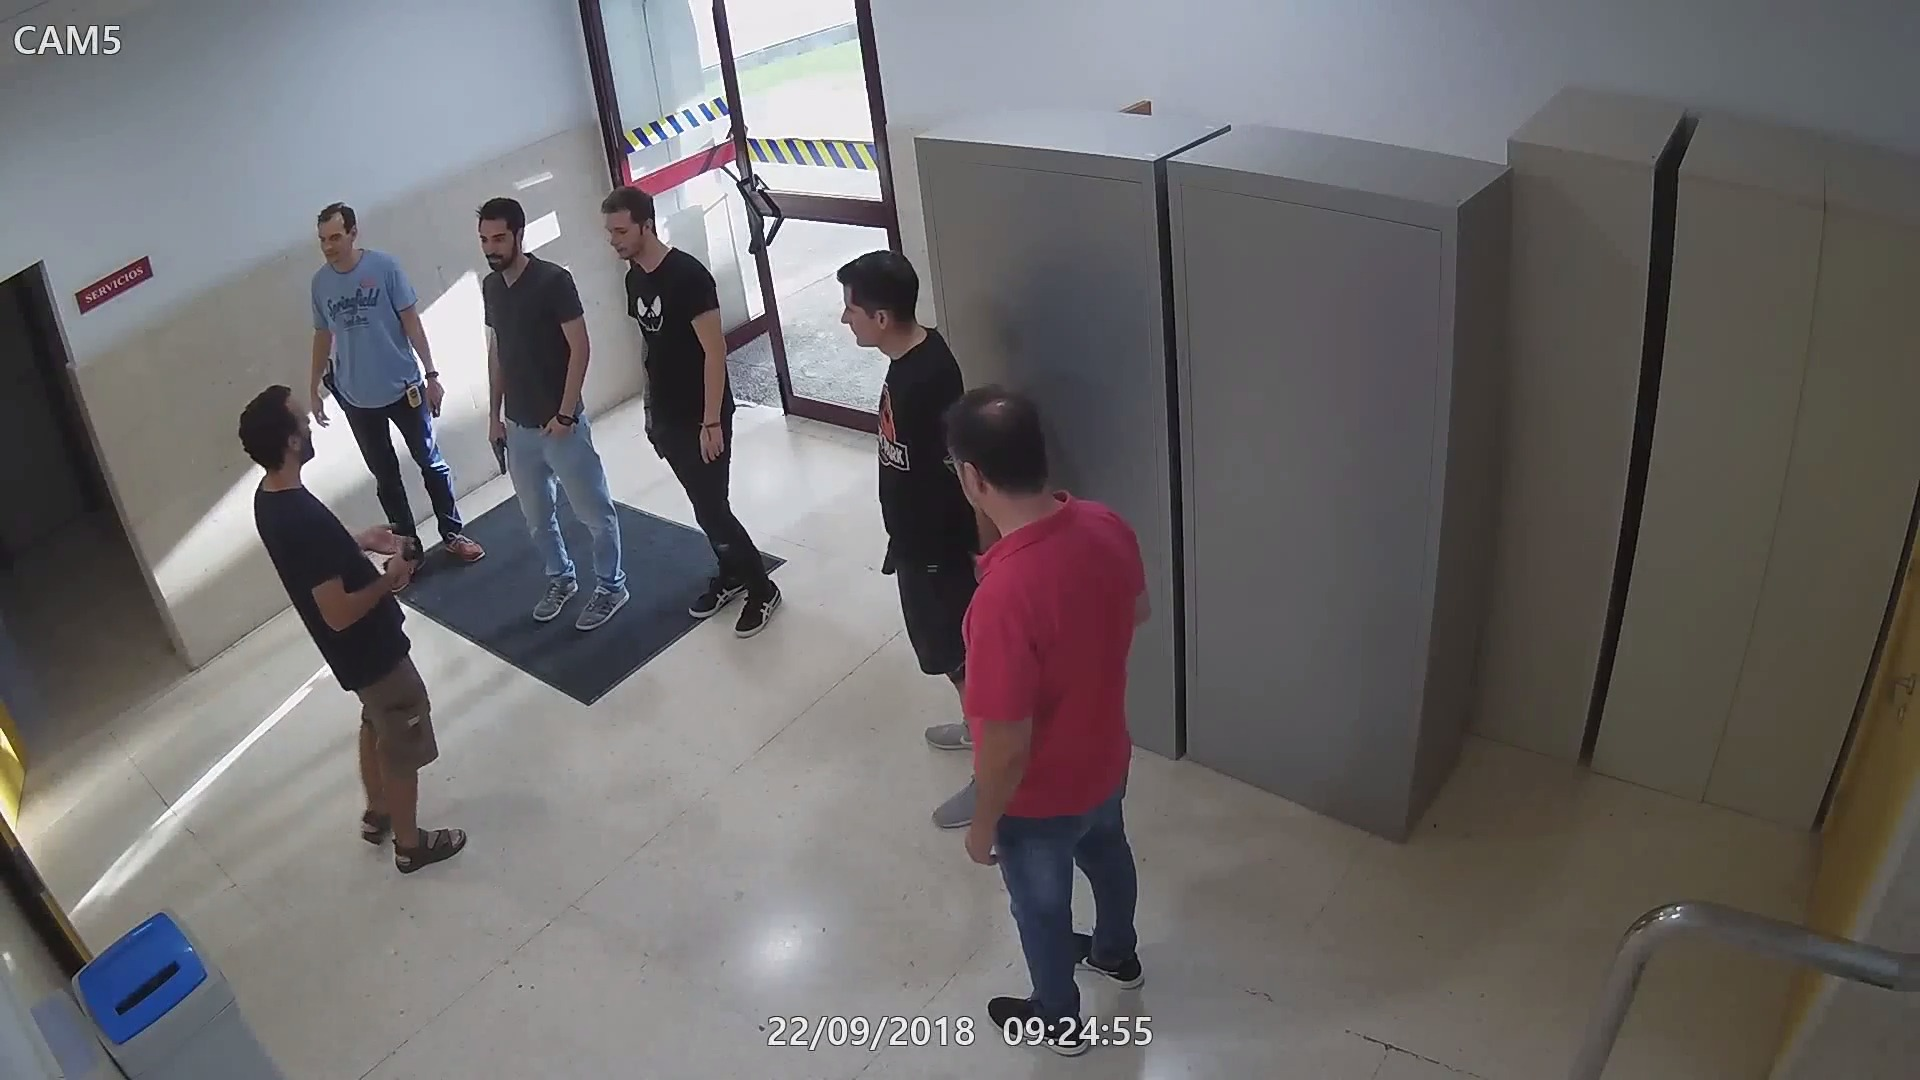Handgun: (372, 526, 425, 593), (480, 419, 517, 481), (316, 360, 342, 409), (877, 530, 895, 575)
Knife: (419, 376, 446, 467)
